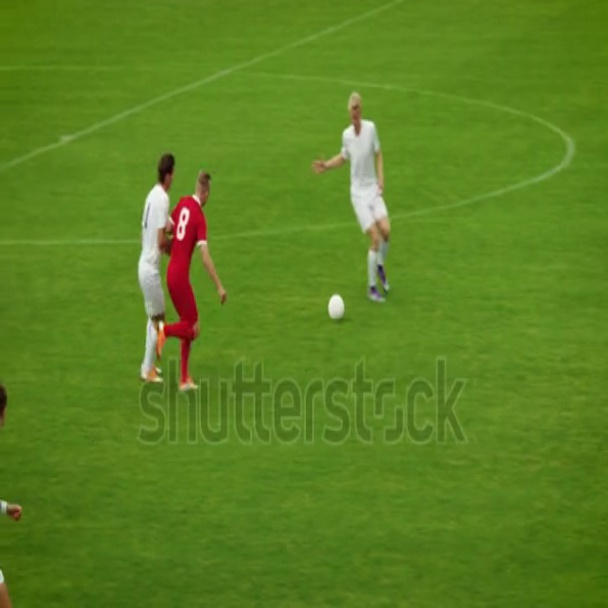ball: (329, 291, 347, 327)
